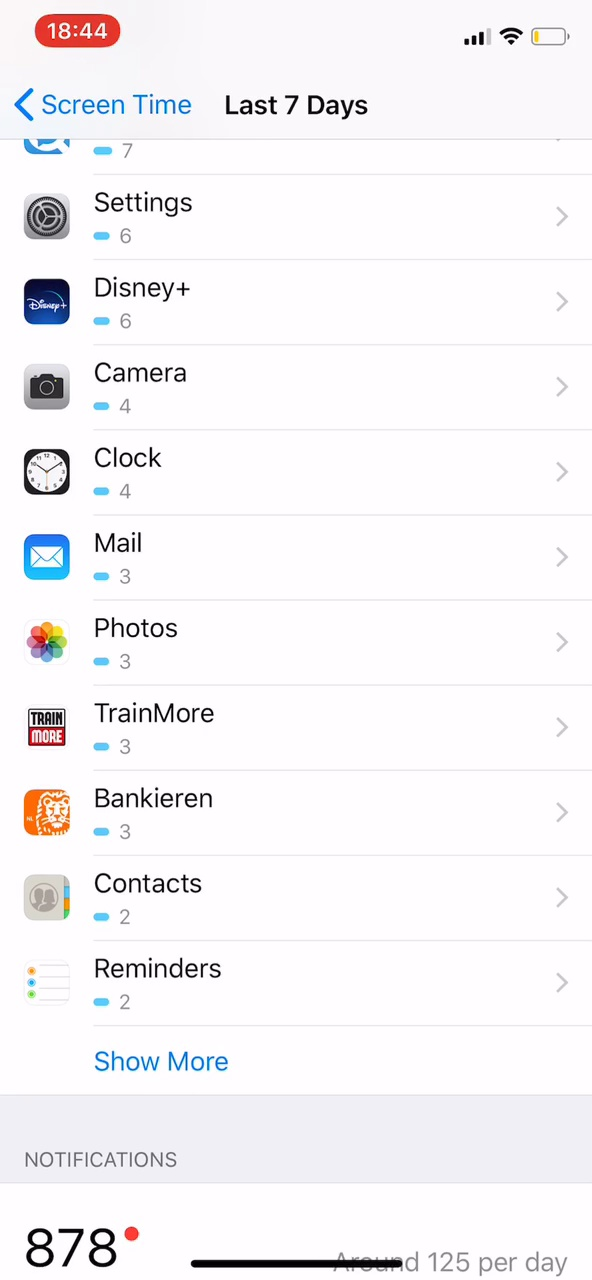not_over: (12, 1108, 182, 1277)
pick_app: (12, 938, 247, 1026), (15, 685, 221, 771), (17, 342, 215, 430), (18, 774, 233, 852), (17, 602, 215, 685), (14, 263, 219, 342), (15, 858, 219, 932), (14, 179, 213, 254), (17, 436, 192, 511), (17, 514, 178, 595)
week: (215, 89, 374, 122)
